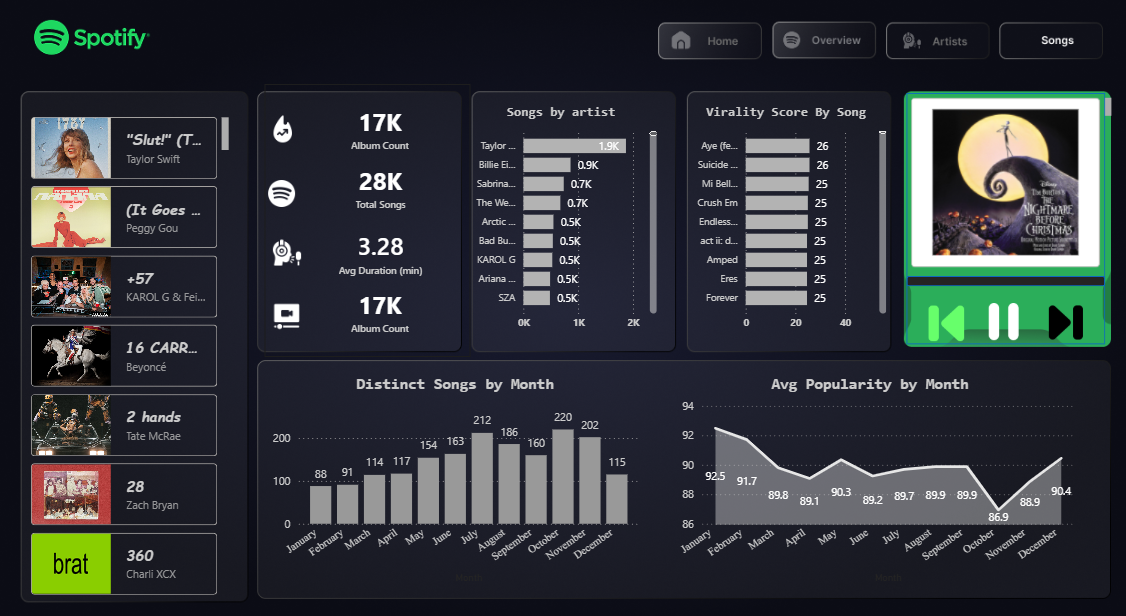

This screenshot's page, from the dashboard's own definition file:
{"tool":"powerbi","page":{"name":"Songs","canvas":[1280,720],"ordinal":3},"visuals":[{"type":"image","box":[10,0,1270,720],"z":0},{"type":"actionButton","box":[747.2,37.6,123.3,46.7],"z":0,"group":"g3"},{"type":"actionButton","box":[883.5,38.3,115,46.7],"z":1000,"group":"g3"},{"type":"group","id":"g1","title":"Group 1","box":[312,106,228,304],"z":1000},{"type":"image","box":[312,140.8,49.7,29.8],"z":1000,"group":"g1"},{"type":"actionButton","box":[1012.2,38.7,111.7,43.3],"z":2000,"group":"g3"},{"type":"clusteredBarChart","title":"Songs by artist","fields":{"Y":["Measures_.Total Songs"],"Category":["Spotify.artist"]},"box":[530,127.5,222.5,260],"z":2000},{"type":"image","box":[312,278.3,49.7,31.5],"z":2000,"group":"g1"},{"type":"actionButton","box":[1141.6,43.4,100,40],"z":3000,"group":"g3"},{"type":"clusteredBarChart","title":"Virality Score By Song","fields":{"Category":["Spotify.song"],"Y":["Measures_.Virality Score"]},"box":[775,127.5,232.5,260],"z":3000},{"type":"image","box":[312,212,38.1,29.8],"z":3000,"group":"g1"},{"type":"advancedSlicerVisual","fields":{"Values":["Spotify.song"],"Label":["Min(Spotify.artist)"]},"box":[47.2,137.7,230.2,543.4],"z":4000},{"type":"image","box":[312,347.8,49.7,33.1],"z":4000,"group":"g1"},{"type":"cardVisual","fields":{"Data":["Measures_.Avg Duration (min)"]},"box":[351.8,243.5,178.9,102.7],"z":5000,"group":"g1"},{"type":"clusteredColumnChart","fields":{"Y":["Measures_.Distinct Songs"],"Category":["Spotify.date.Variation.Date Hierarchy.Month"]},"box":[315.1,426.4,417,239.6],"z":5000},{"type":"cardVisual","fields":{"Data":["Measures_.Album Count"]},"box":[340.2,106,200.4,99.4],"z":6000,"group":"g1"},{"type":"stackedAreaChart","fields":{"Category":["Spotify.date.Variation.Date Hierarchy.Month"],"Y":["Measures_.Avg Popularity"]},"box":[752.8,426.4,462.3,239.6],"z":6000},{"type":"group","id":"g2","title":"Group 2","box":[1024.5,117,234,279.2],"z":7000},{"type":"cardVisual","fields":{"Data":["Measures_.Total Songs"]},"box":[341.8,170.6,198.8,99.4],"z":7000,"group":"g1"},{"type":"shape","box":[1024.5,117,220.8,279.2],"z":7001},{"type":"group","id":"g3","title":"Group 1","box":[747.2,37.6,494.4,47.4],"z":7002},{"type":"cardVisual","fields":{"Data":["Measures_.Album Count"]},"box":[340.2,309.7,200.4,99.4],"z":8000,"group":"g1"},{"type":"advancedSlicerVisual","fields":{"Values":["Spotify.album_cover_url"]},"box":[1024.5,117,234,198.1],"z":11000,"group":"g2"},{"type":"image","box":[1167.9,351,67.9,43.4],"z":12000,"group":"g2"},{"type":"image","box":[1032,351,71.7,45.3],"z":13000,"group":"g2"},{"type":"image","box":[1098.1,351,69.8,41.5],"z":14000,"group":"g2"},{"type":"shape","box":[1024.5,320.8,220.8,11.3],"z":15000,"group":"g2"}]}

Visuals, with their boxes in screenshot pixels (x1, y1, x2, y2), scaled from the page's 1280x720 canvas onto the 1126x616 screenshot:
image: (9, 0, 1125, 615)
actionButton: (657, 32, 766, 72)
actionButton: (777, 33, 878, 73)
"Group 1" group: (274, 91, 475, 351)
image: (274, 120, 318, 146)
actionButton: (890, 33, 989, 70)
"Songs by artist" clusteredBarChart: (466, 109, 662, 332)
image: (274, 238, 318, 265)
actionButton: (1004, 37, 1092, 71)
"Virality Score By Song" clusteredBarChart: (682, 109, 886, 332)
image: (274, 181, 308, 207)
advancedSlicerVisual - Spotify.song x Min(Spotify.artist): (42, 118, 244, 583)
image: (274, 298, 318, 326)
cardVisual - Measures_.Avg Duration (min): (309, 208, 467, 296)
clusteredColumnChart - Measures_.Distinct Songs x Spotify.date.Variation.Date Hierarchy.Month: (277, 365, 644, 570)
cardVisual - Measures_.Album Count: (299, 91, 476, 176)
stackedAreaChart - Spotify.date.Variation.Date Hierarchy.Month x Measures_.Avg Popularity: (662, 365, 1069, 570)
"Group 2" group: (901, 100, 1107, 339)
cardVisual - Measures_.Total Songs: (301, 146, 476, 231)
shape: (901, 100, 1095, 339)
"Group 1" group: (657, 32, 1092, 73)
cardVisual - Measures_.Album Count: (299, 265, 476, 350)
advancedSlicerVisual - Spotify.album_cover_url: (901, 100, 1107, 270)
image: (1027, 300, 1087, 337)
image: (908, 300, 971, 339)
image: (966, 300, 1027, 336)
shape: (901, 274, 1095, 284)
